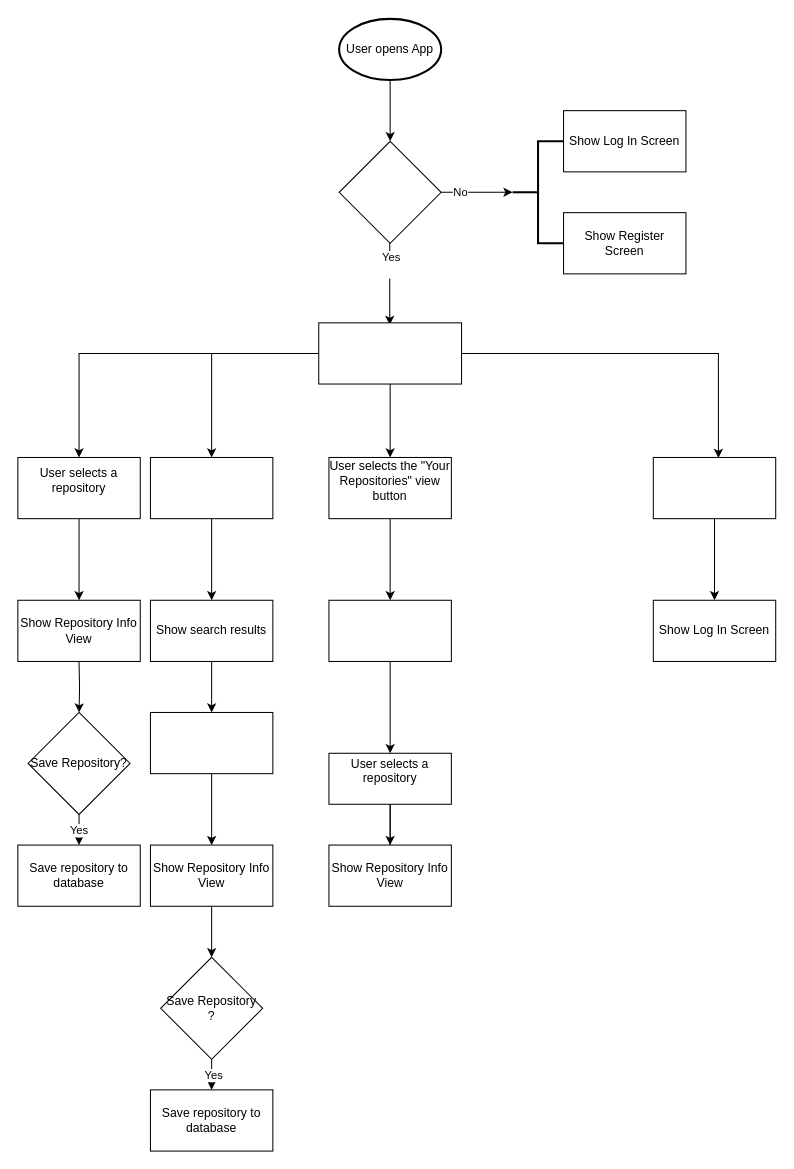
The diagram is 794 pixels wide and 1169 high, and some of its shapes have lost their labels. Each missing label, with the box of its shape:
Show Repositories Dashboard/HomeScreen: (318, 322, 462, 384)
Show Saved Repositories View: (328, 599, 451, 661)
User Logged In: (338, 140, 441, 243)
User logs out: (652, 456, 776, 519)
User searches for a repository: (149, 456, 273, 519)
User selects repository: (149, 711, 273, 774)
